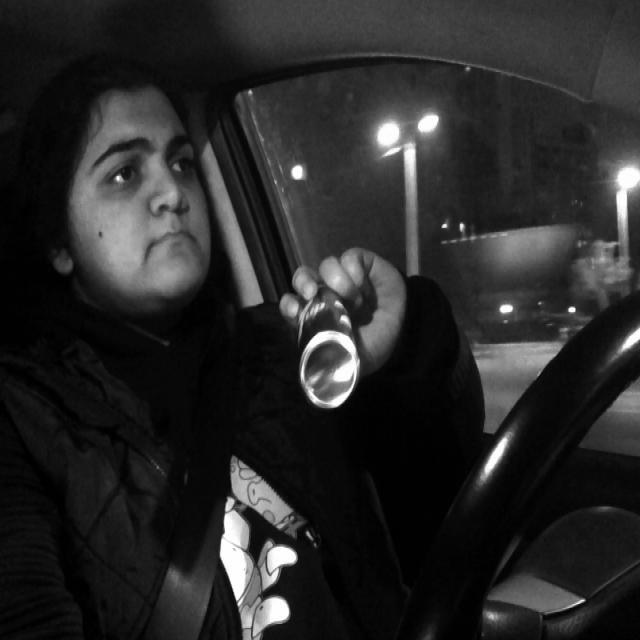Drinking: (293, 274, 362, 418)
